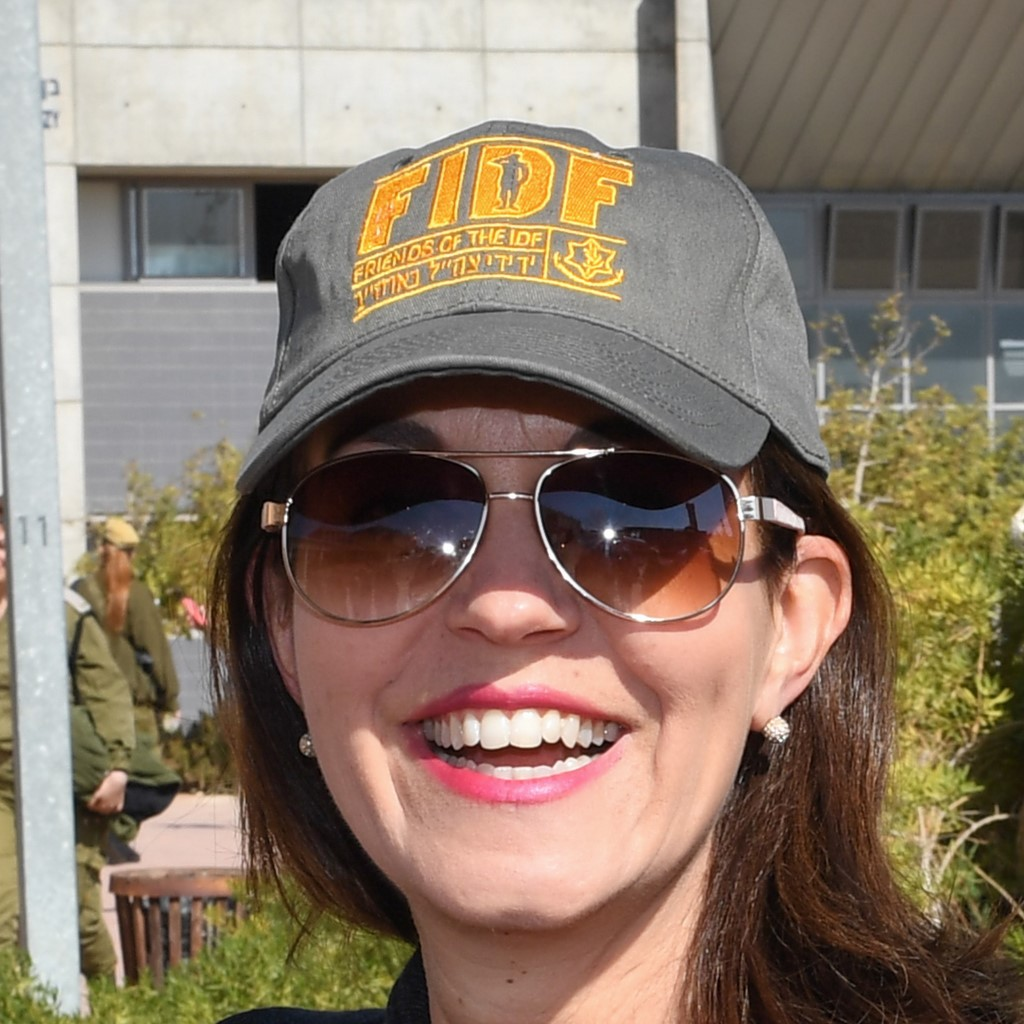sin_mascara: (299, 339, 807, 948)
